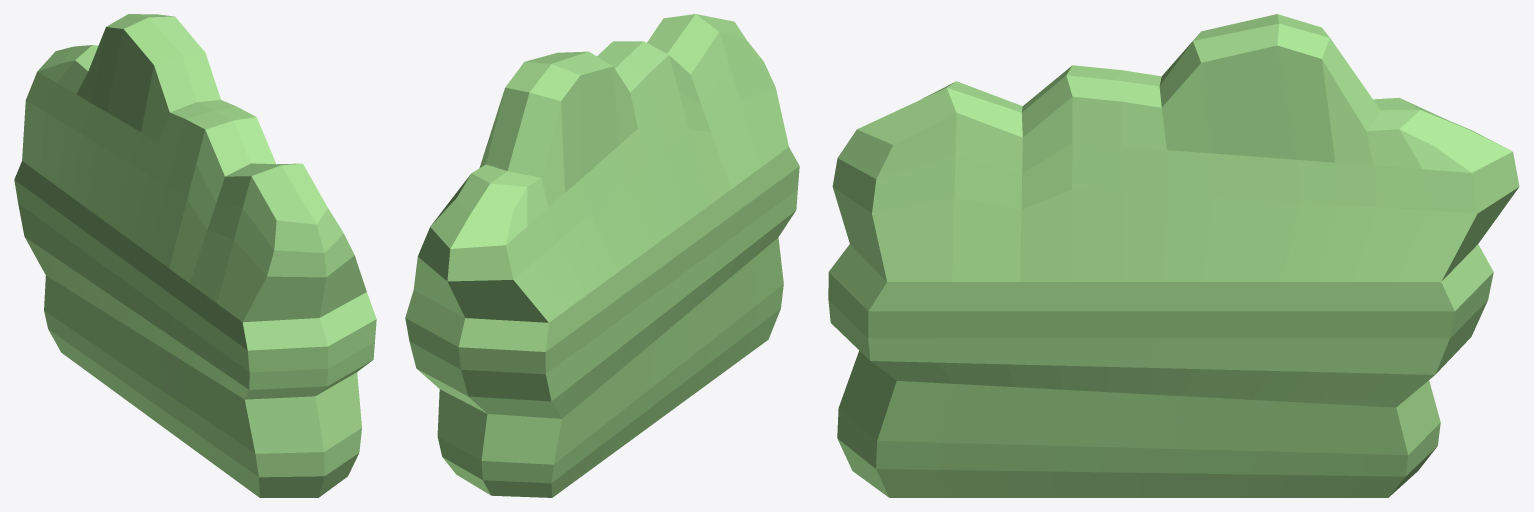
Rendered from arbusto1.fbx.
The picture shows the model from 3 angles, left to right: view 1: azimuth 30°, elevation 25°; view 2: azimuth 150°, elevation 25°; view 3: azimuth 270°, elevation 25°; orthographic projection. The views are drawn at different scales.
Parts seen in each view (by area): view 1: Cubo.003; view 2: Cubo.003; view 3: Cubo.003.
Boxes of the visible parts, left/top/right/bottom form: Cubo.003: left=14, top=14, right=376, bottom=497; Cubo.003: left=405, top=14, right=799, bottom=497; Cubo.003: left=828, top=14, right=1519, bottom=497.
Size of the model in its own units: 60.06 by 159 by 222.
